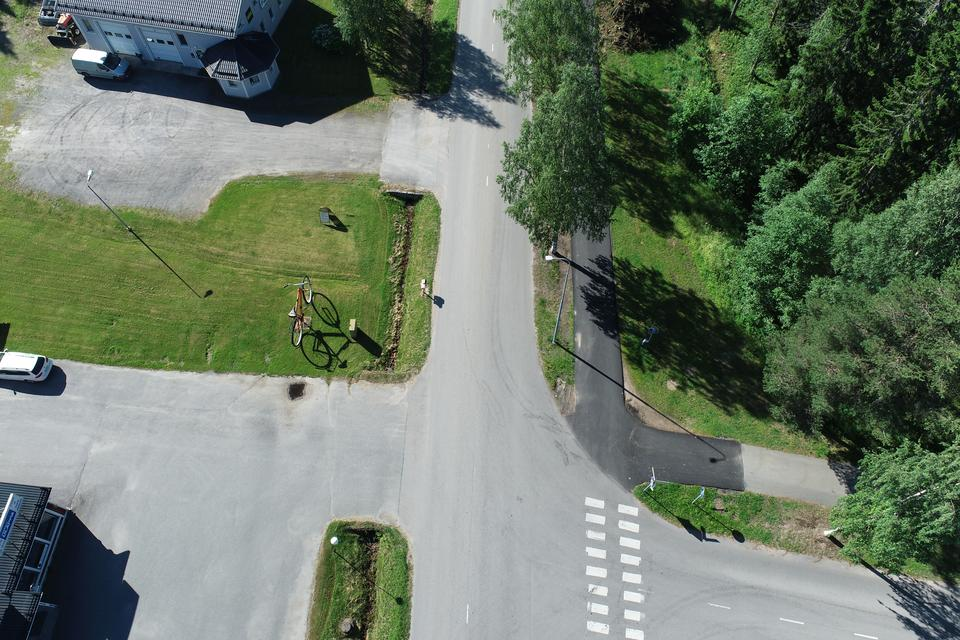intersection: (493, 355, 696, 640)
